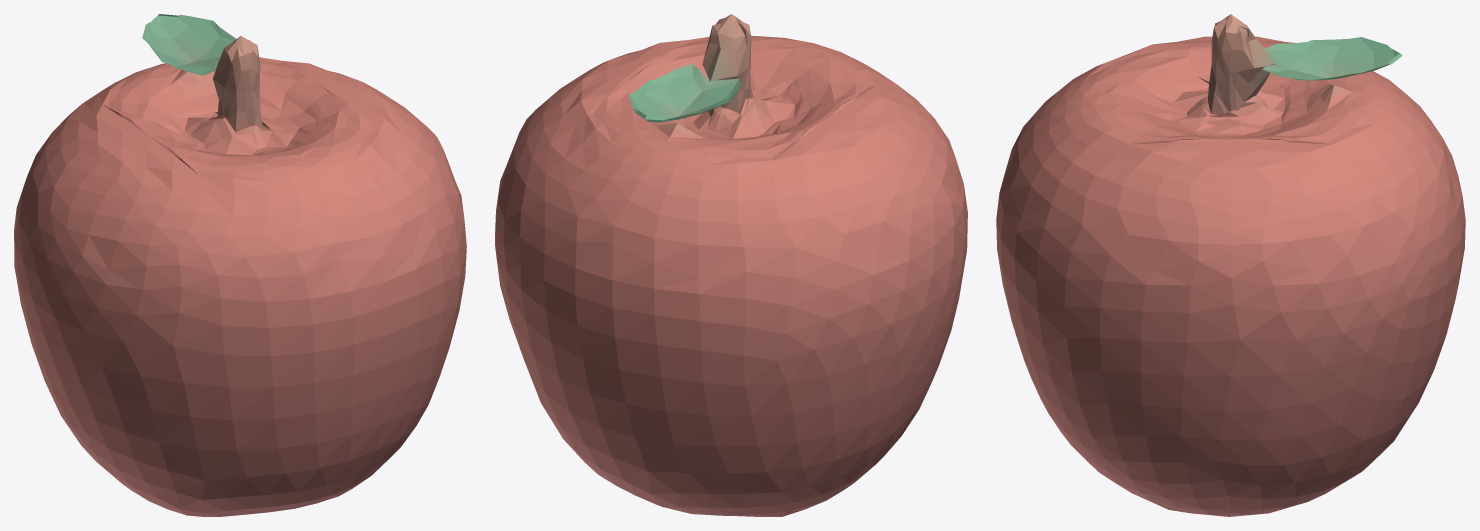
File: apple.glb
3 views of the same model, side by side, from view 1: azimuth 30°, elevation 25°; view 2: azimuth 150°, elevation 25°; view 3: azimuth 270°, elevation 25° (orthographic). The views are drawn at different scales.
Size of the model in its own units: 0.6117 by 0.6678 by 0.6104.
